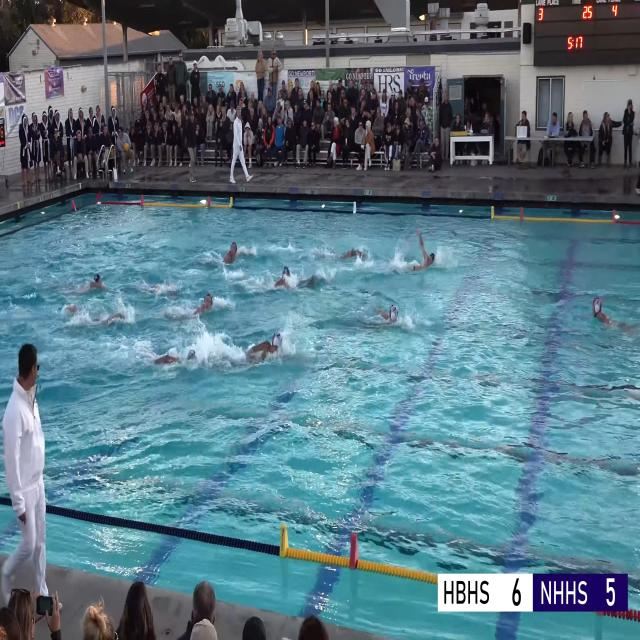ball: (124, 142, 129, 152), (110, 150, 114, 157)
